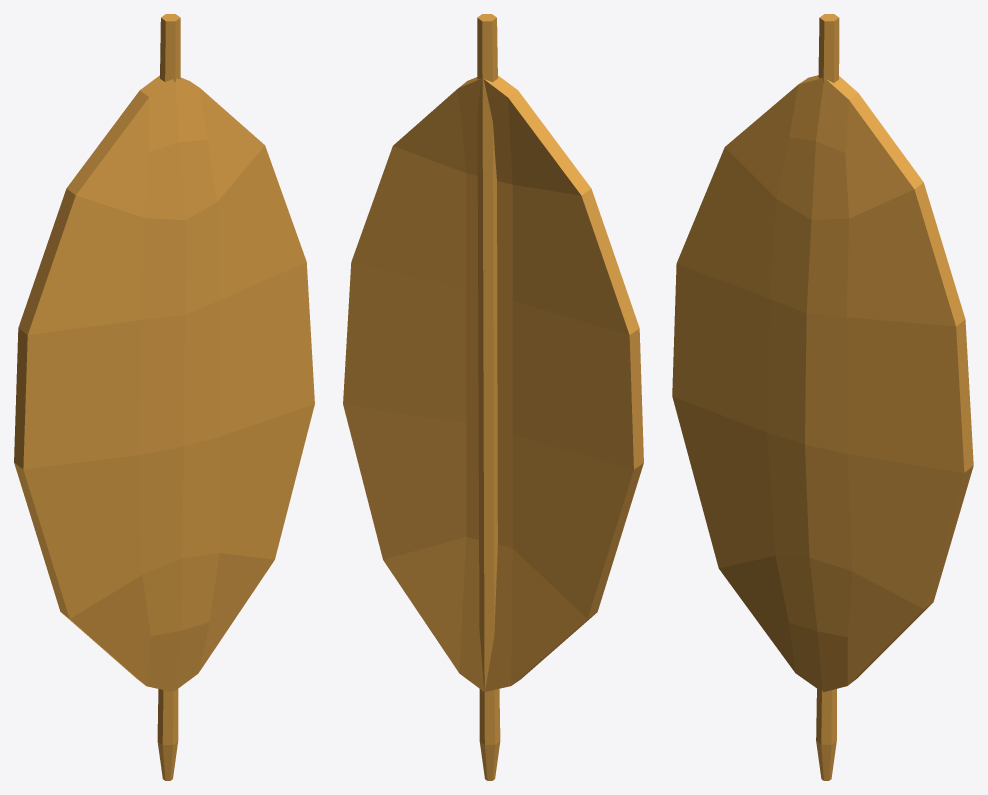
The model's file is shield-zulu.fbx.
3 views of the same model, side by side, from view 1: azimuth 30°, elevation 25°; view 2: azimuth 150°, elevation 25°; view 3: azimuth 330°, elevation 25° (orthographic).
Visible parts, largest first — view 1: shield-zulu; view 2: shield-zulu; view 3: shield-zulu.
Boxes of the visible parts, x1=… form: shield-zulu: x1=14, y1=14, x2=314, y2=780; shield-zulu: x1=343, y1=14, x2=643, y2=780; shield-zulu: x1=672, y1=14, x2=973, y2=780.
Bounding box in the file's own units: 0.7486 × 1.87 × 0.1069.
